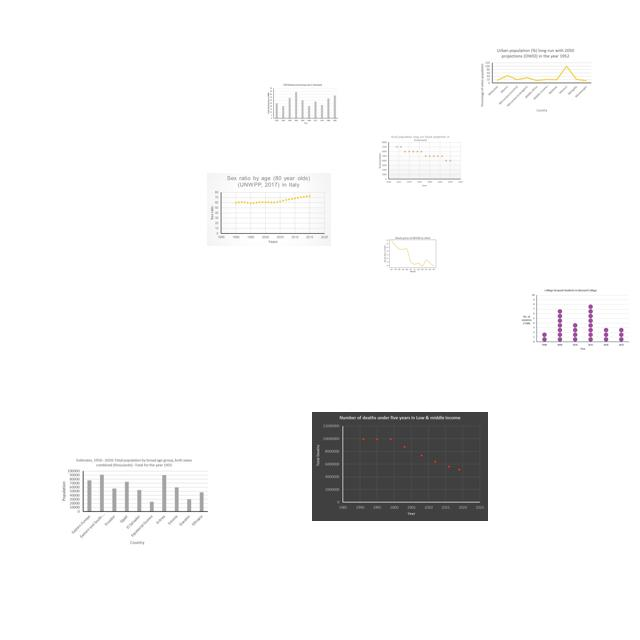Graph: (312, 412, 488, 521), (58, 456, 211, 546), (207, 173, 331, 246), (479, 47, 593, 113), (519, 287, 631, 353), (378, 135, 464, 187), (266, 83, 339, 125), (382, 231, 442, 276)
